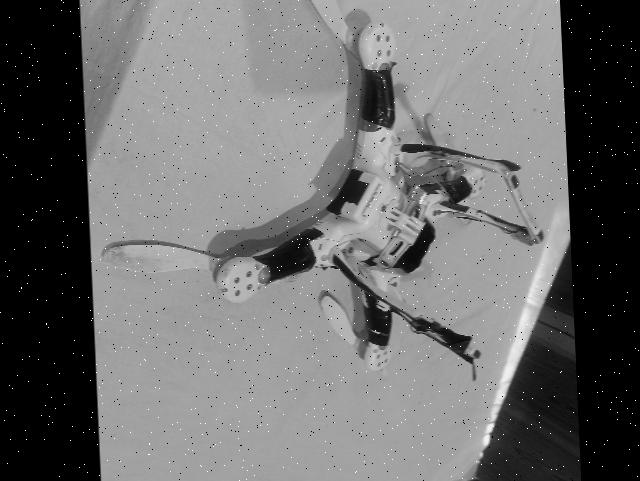drone: (87, 0, 554, 438)
